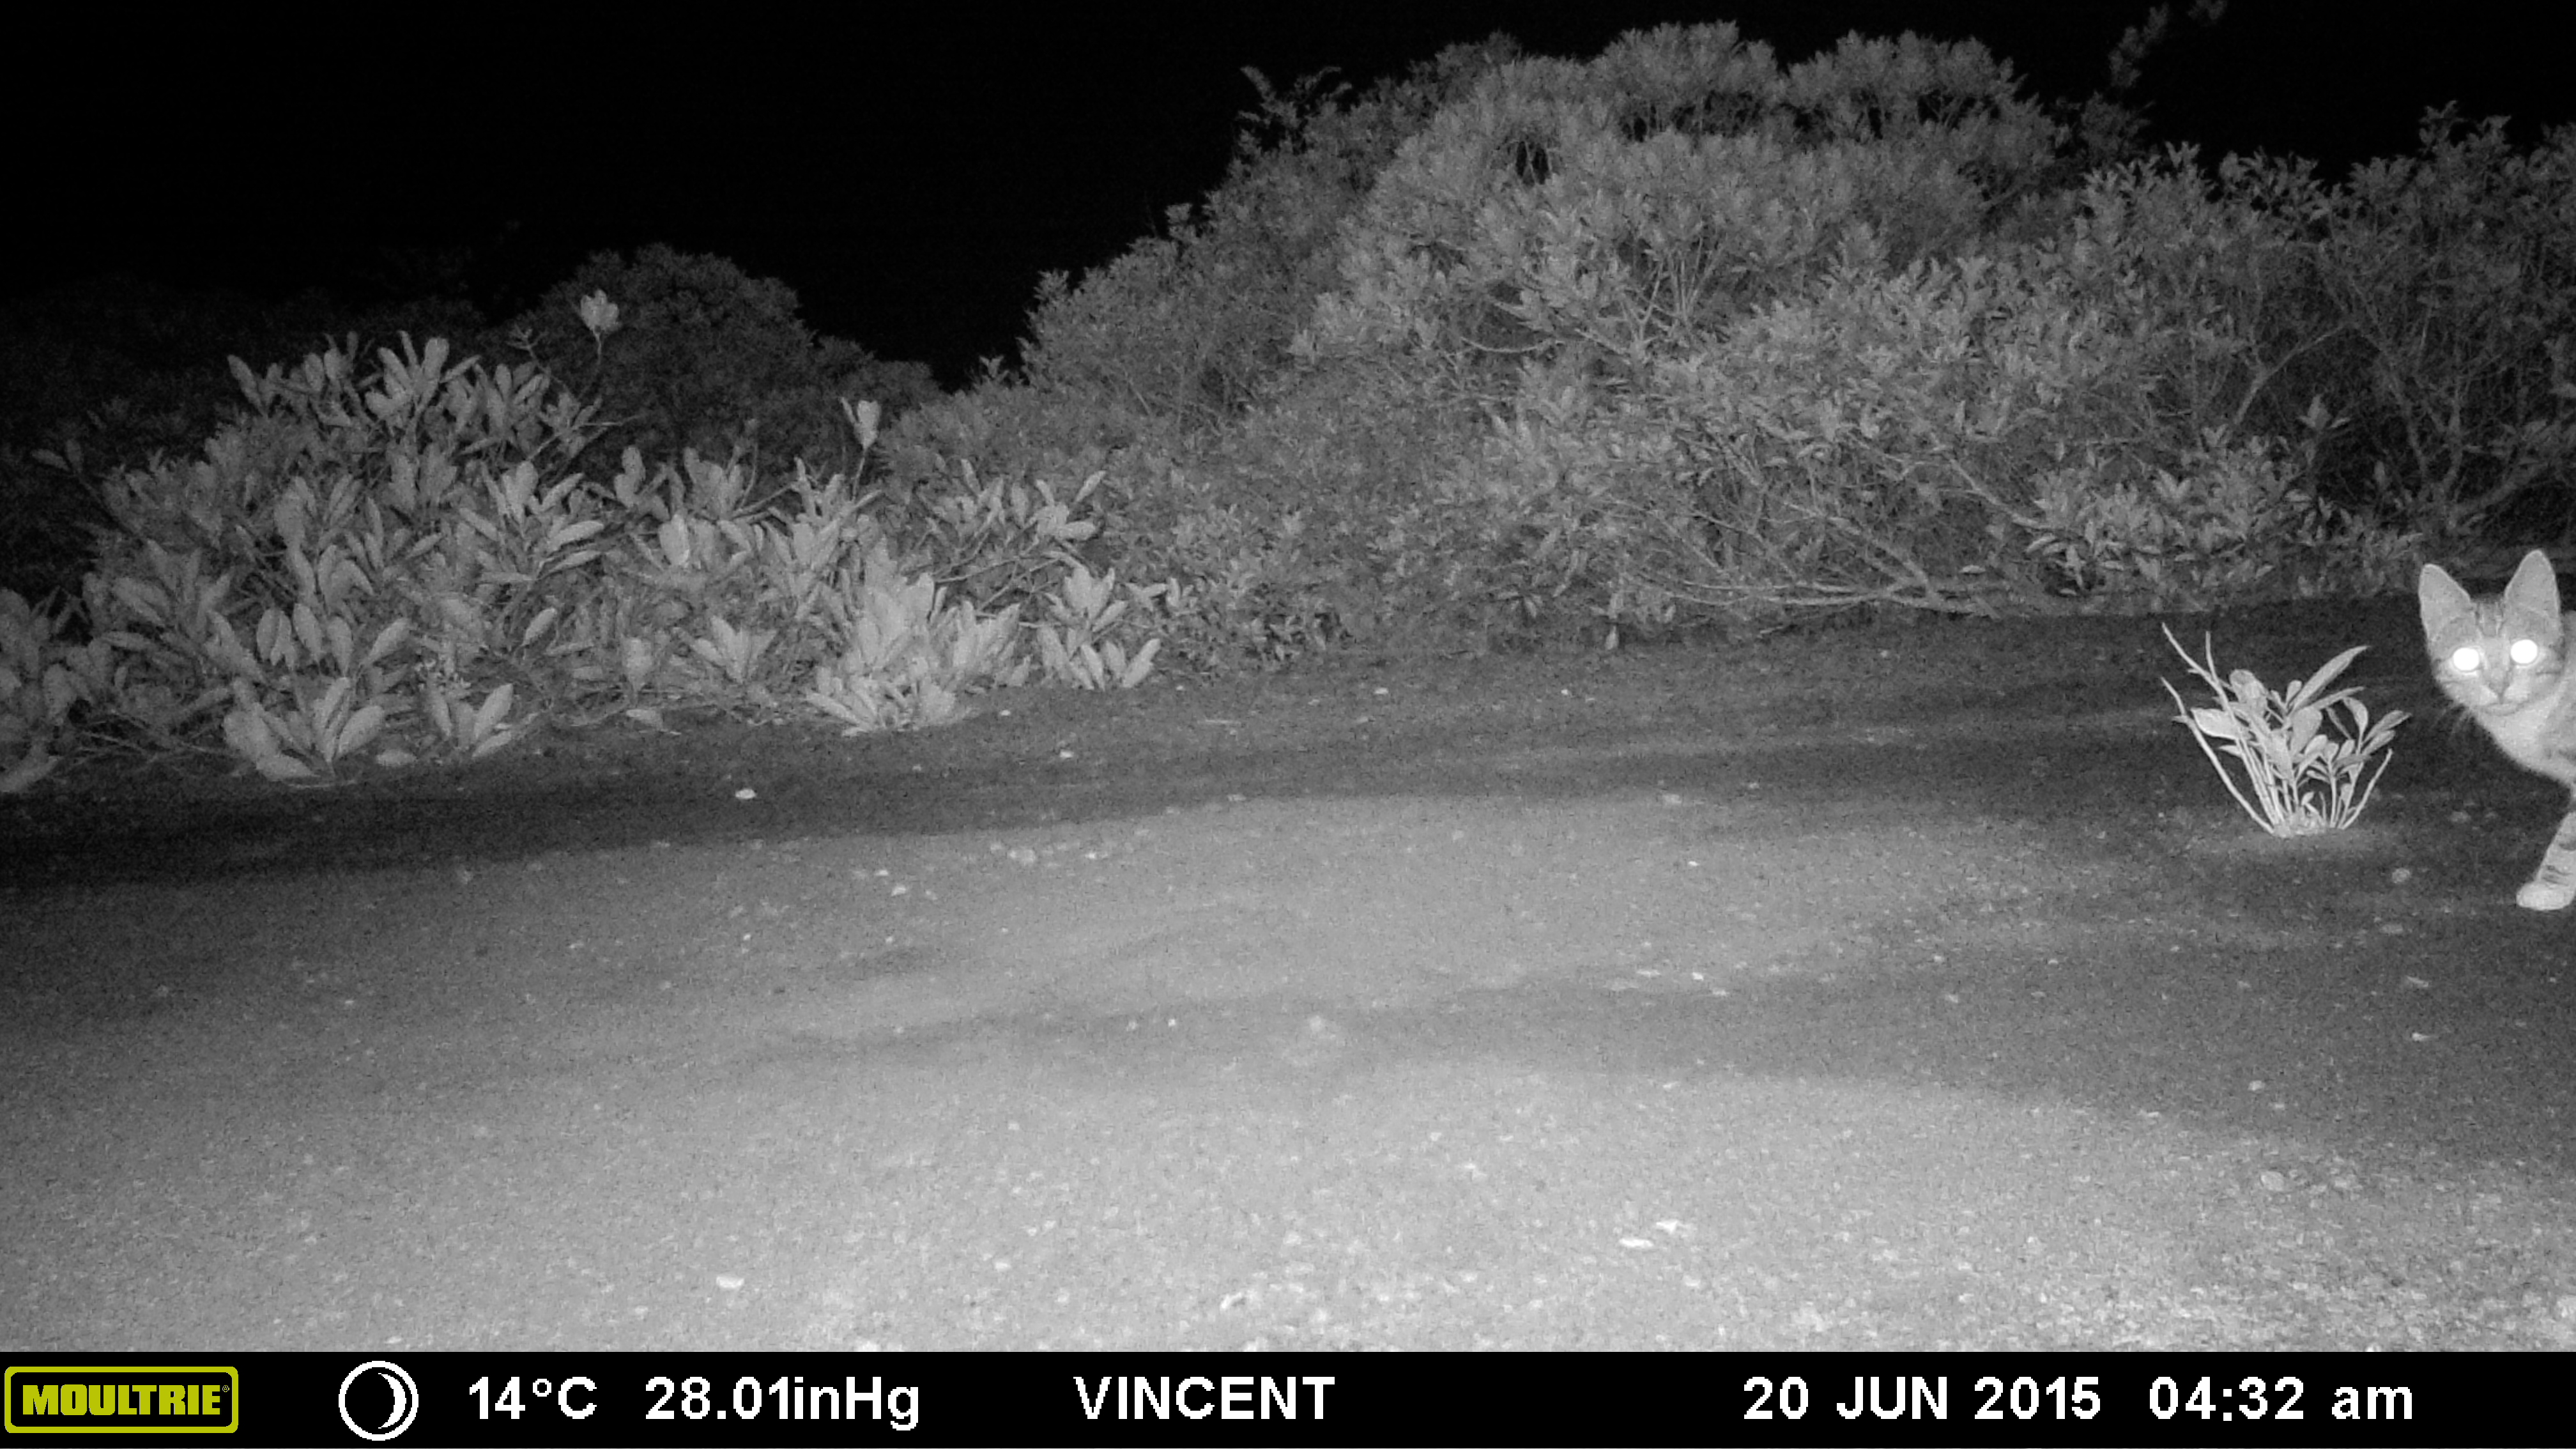cat: (2380, 541, 2572, 931)
